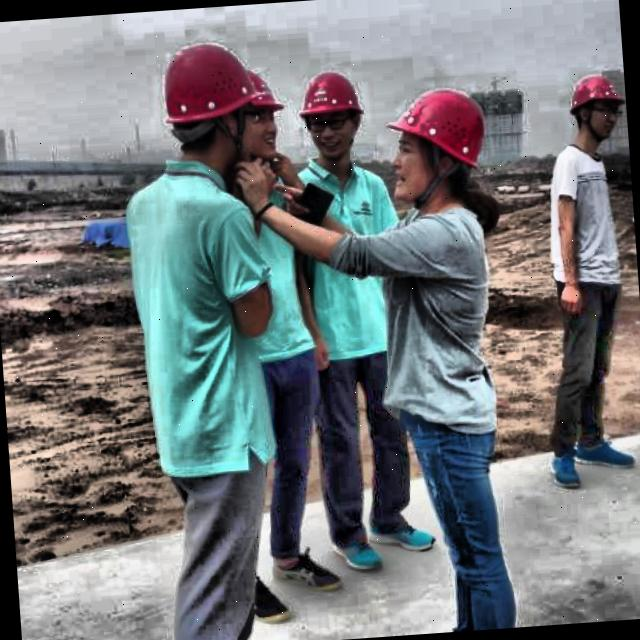helmet: (158, 39, 260, 172), (382, 85, 492, 202), (291, 68, 368, 164), (233, 61, 286, 166), (566, 68, 626, 142)
